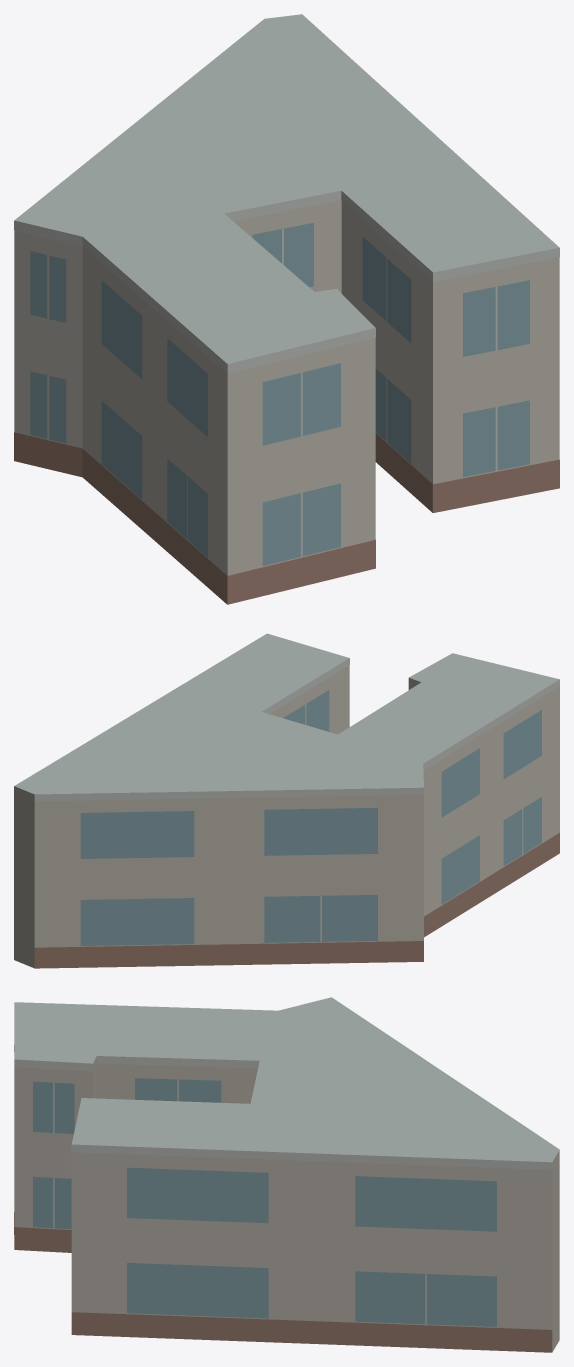
The model's file is survey-upis-32955695.glb.
The picture shows the model from 3 angles, top to bottom: view 1: azimuth 30°, elevation 25°; view 2: azimuth 150°, elevation 25°; view 3: azimuth 270°, elevation 25°; orthographic projection. The views are drawn at different scales.
Visible parts, largest first — view 1: survey-upis-32955695.tmp; view 2: survey-upis-32955695.tmp; view 3: survey-upis-32955695.tmp.
Boxes of the visible parts, x1,y1,x2,y2 form: survey-upis-32955695.tmp: [14, 14, 559, 604]; survey-upis-32955695.tmp: [14, 633, 559, 968]; survey-upis-32955695.tmp: [14, 997, 559, 1352].
Size of the model in its own units: 11.35 by 6.1 by 15.85.
